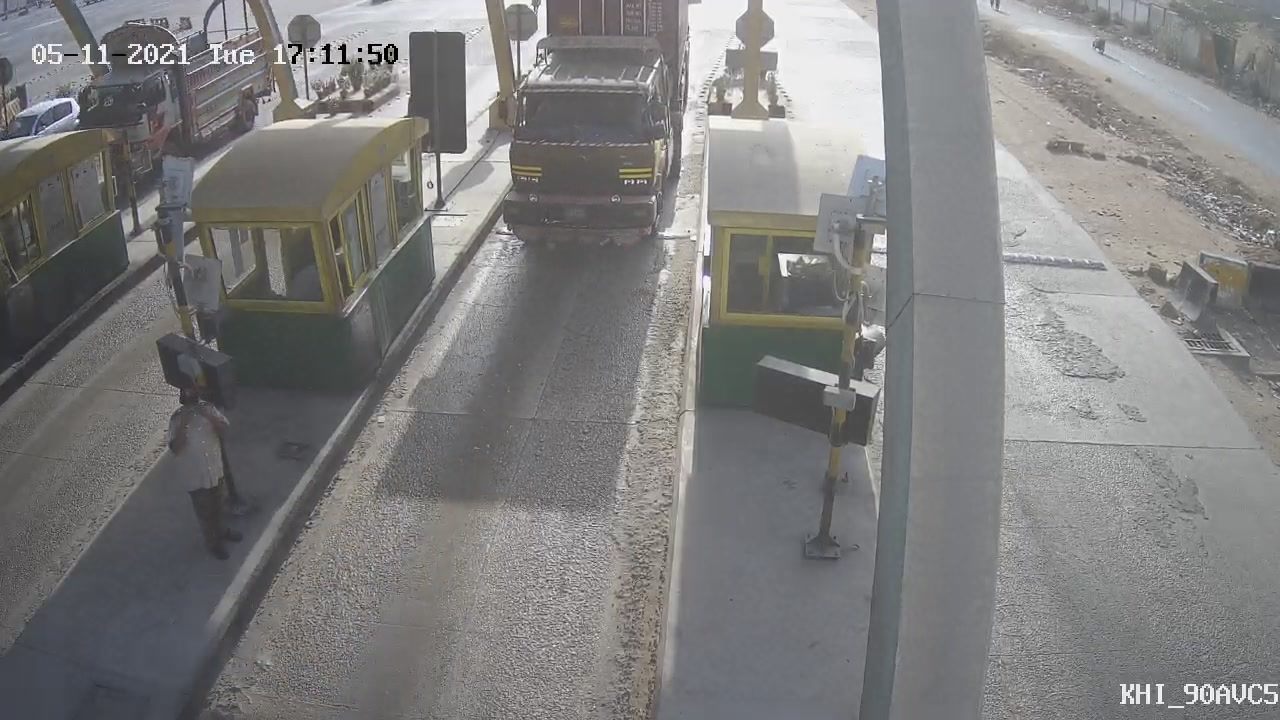F6: (478, 1, 707, 277)
